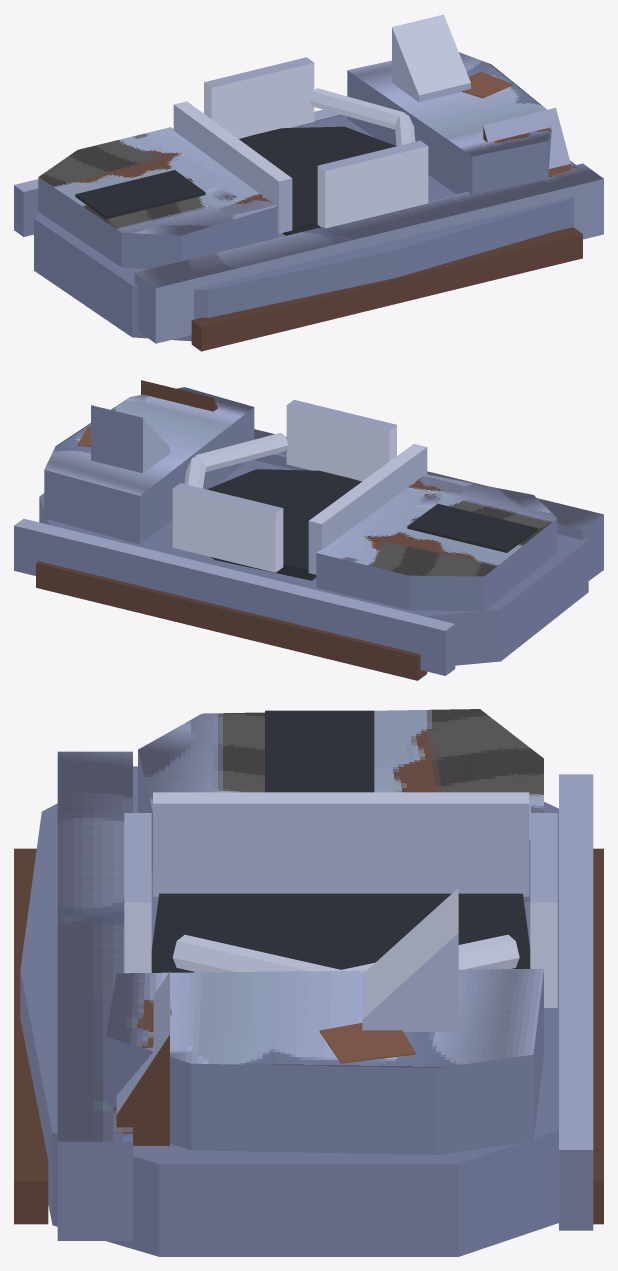
File: Building_AncientPodCar.glb
3 views of the same model, one above another, from view 1: azimuth 30°, elevation 25°; view 2: azimuth 150°, elevation 25°; view 3: azimuth 270°, elevation 25° (orthographic). The views are drawn at different scales.
Visible parts, largest first — view 1: AncientPodCar; view 2: AncientPodCar; view 3: AncientPodCar.
Boxes of the visible parts, left/top/right/bottom form: AncientPodCar: left=14, top=14, right=603, bottom=351; AncientPodCar: left=14, top=380, right=603, bottom=680; AncientPodCar: left=14, top=709, right=603, bottom=1256.
Size of the model in its own units: 2.78 by 0.9 by 1.73.
1 material, 1 textured.
